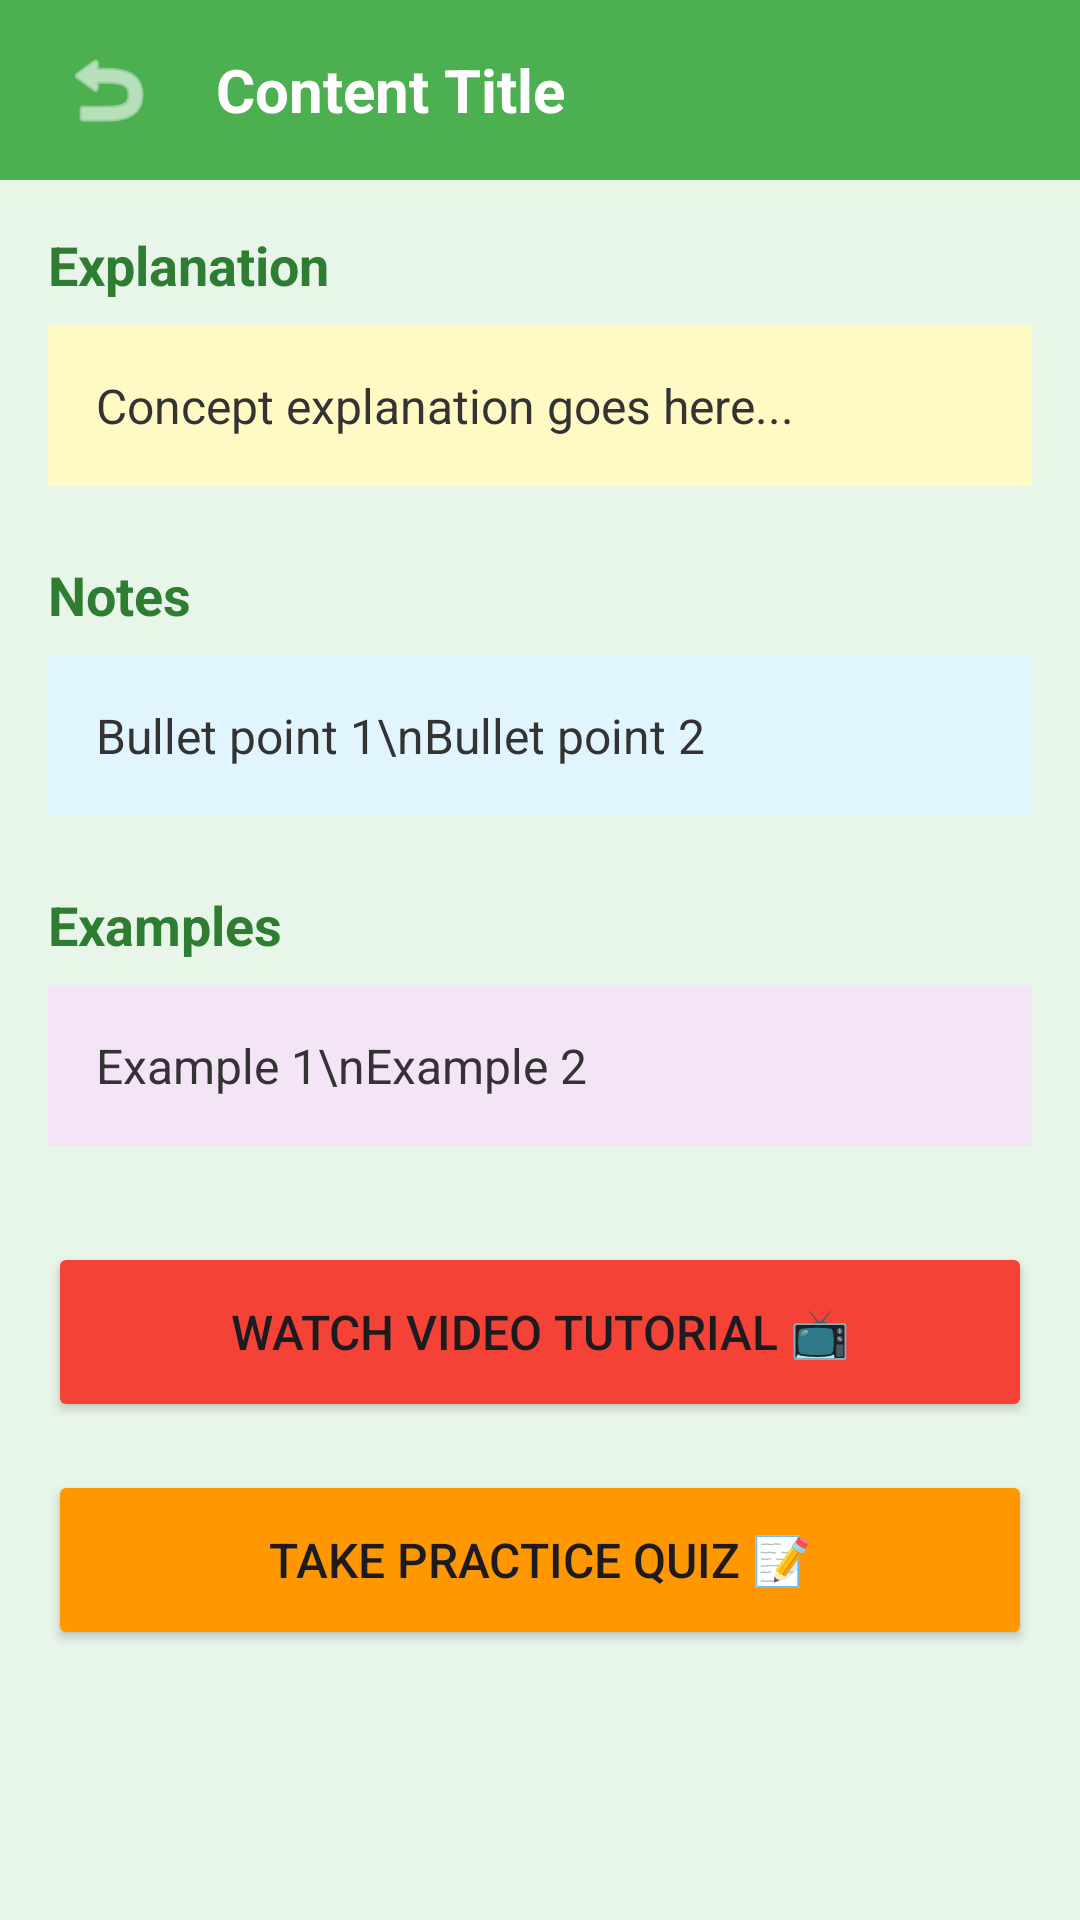

Locate icon controls on the screen. Image size 1080px x 1920px, boxes as (x1, y1, x2, y2).
revert: (75, 59, 144, 122)
